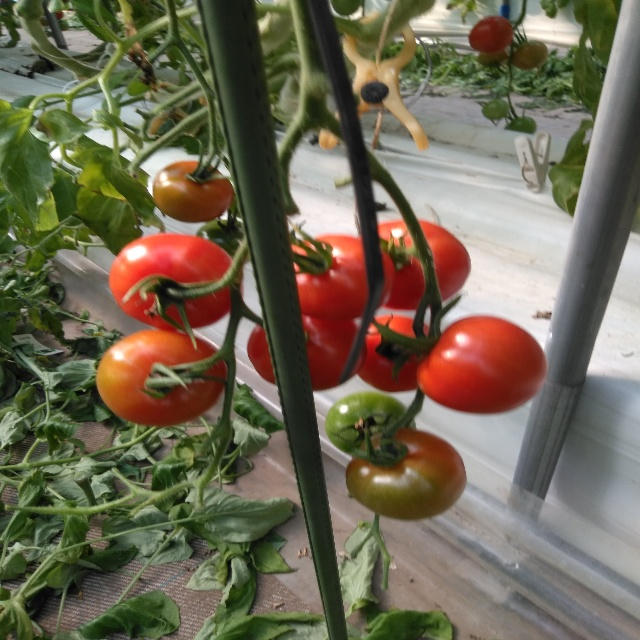l_fully_ripened: (107, 233, 244, 330), (416, 316, 549, 414), (359, 220, 471, 310), (247, 312, 365, 391), (291, 234, 395, 321), (356, 314, 442, 392)
l_green: (325, 392, 417, 457), (195, 218, 250, 266)
l_half_ripened: (95, 330, 227, 428), (345, 428, 468, 523), (153, 161, 234, 222)
